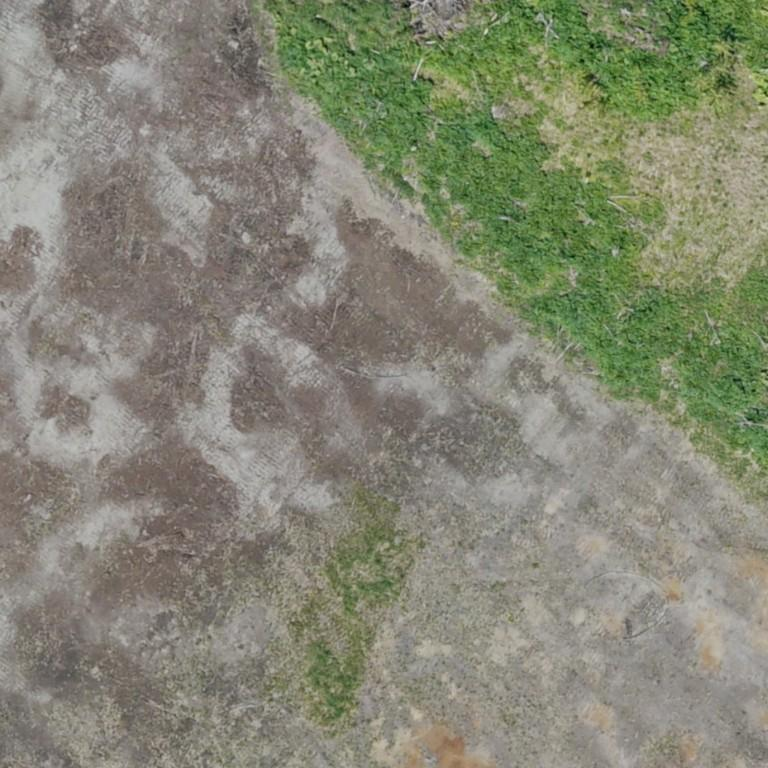hogweed: (423, 104, 683, 385), (278, 15, 432, 159), (683, 344, 766, 411), (662, 0, 745, 54)
